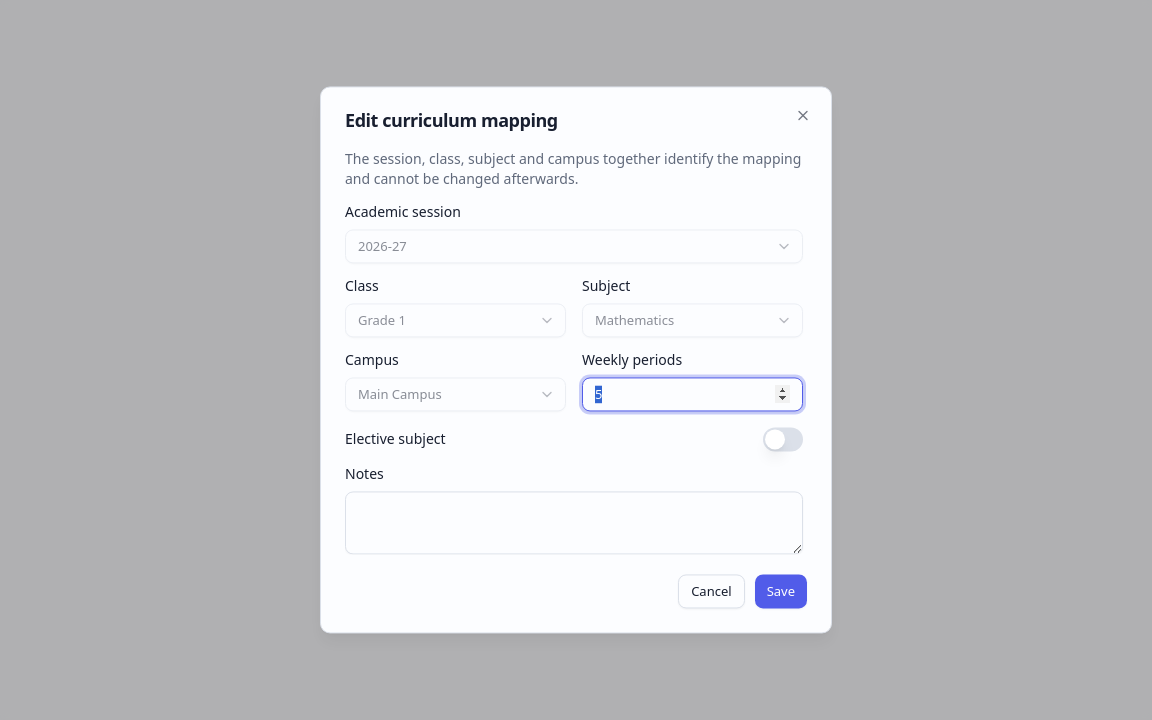
it: CurriculumFormDialog › editing a mapping › shows an error naming a field it doesn't edit as the form's own message
What coordinates should you click on to do the following:
click the button "Save"
I would click on:
 (781, 592)
Its box is left=755, top=575, right=807, bottom=609.
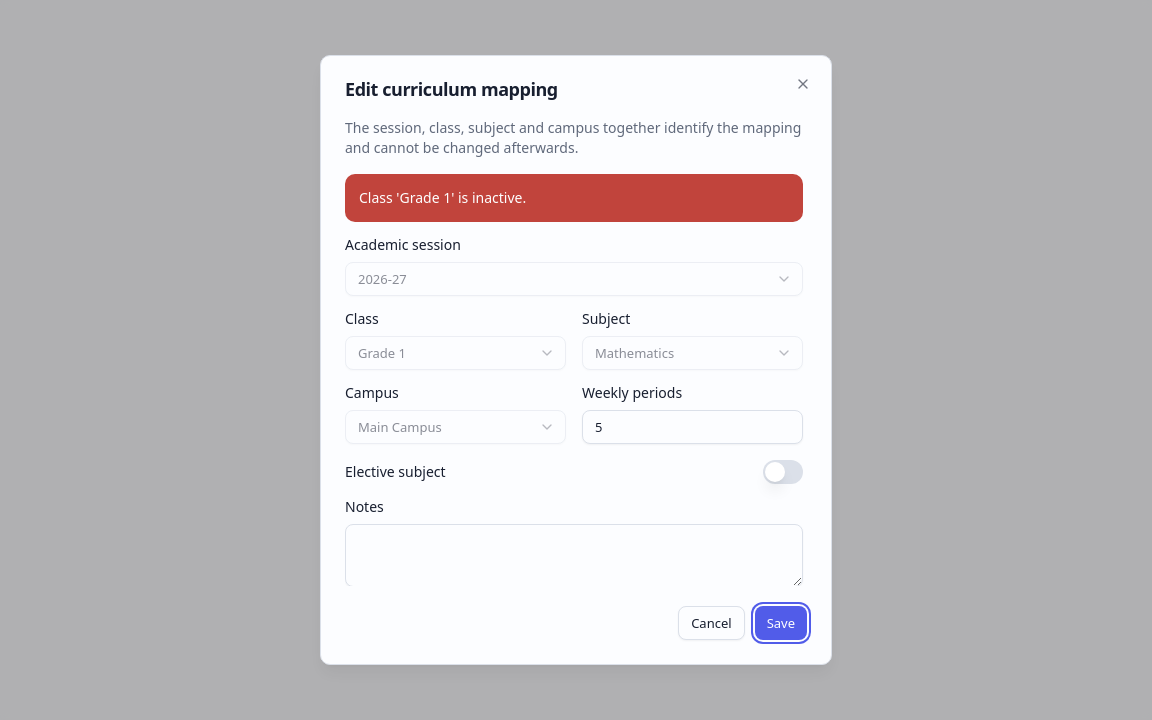
Expected: the text "Class 'Grade 1' is inactive." is shown, left=345, top=174, right=803, bottom=222
